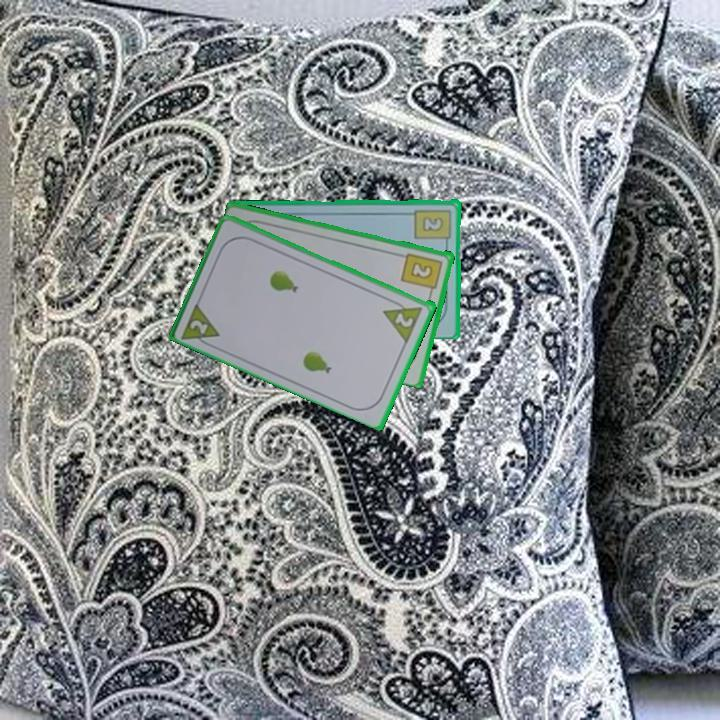2b: (398, 249, 446, 297), (412, 205, 454, 248)
2p: (178, 298, 223, 351), (380, 294, 426, 344)
